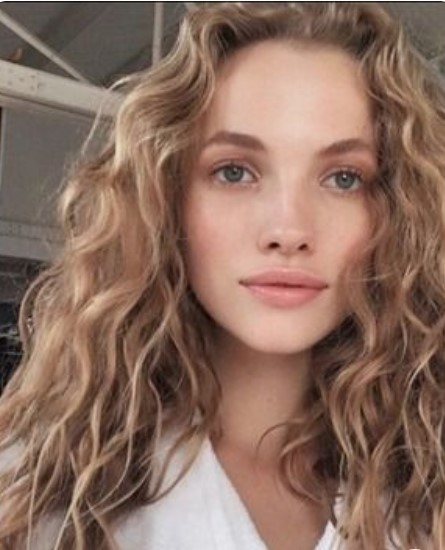face_no_mask: (134, 15, 422, 359)
